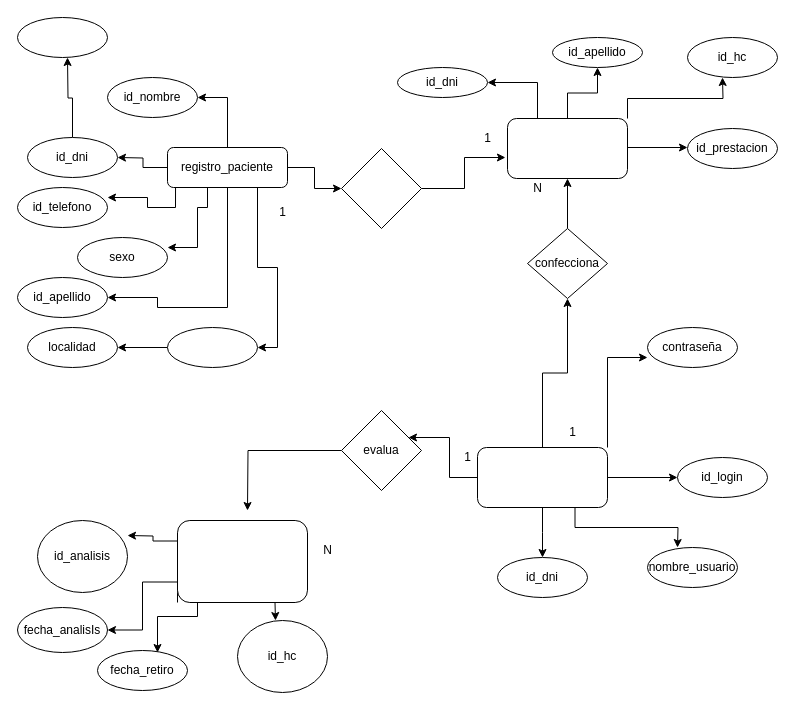
Image size: 795x710. Some labels were removed from this diagram. Here are the shapes that lost their labels. From the top down, the centre of each, then its label:
[62,37]: tipo_doc
[567,148]: hc_paciente
[381,188]: solicita
[212,347]: domicilio
[542,477]: usuario_admin
[242,561]: tipo_analisis
